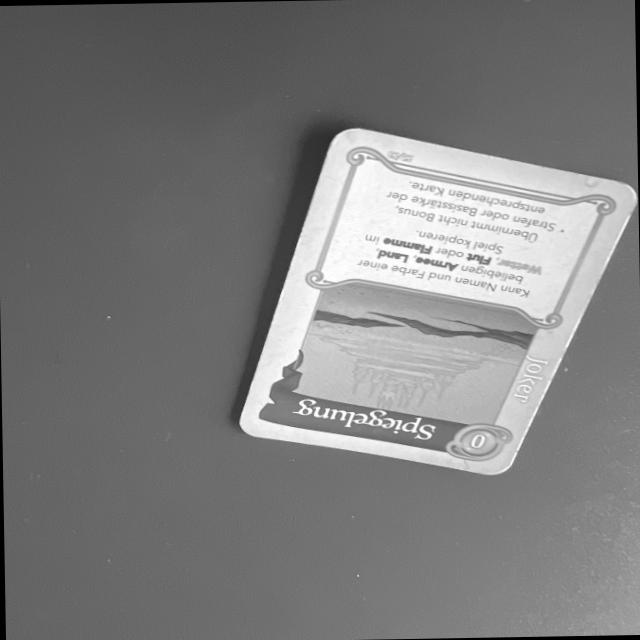Mirage: (231, 121, 635, 483)
